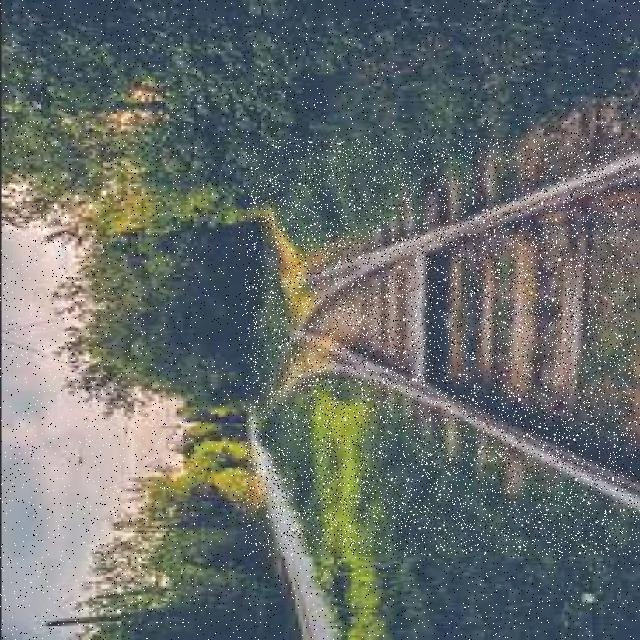rail: (245, 140, 637, 555)
